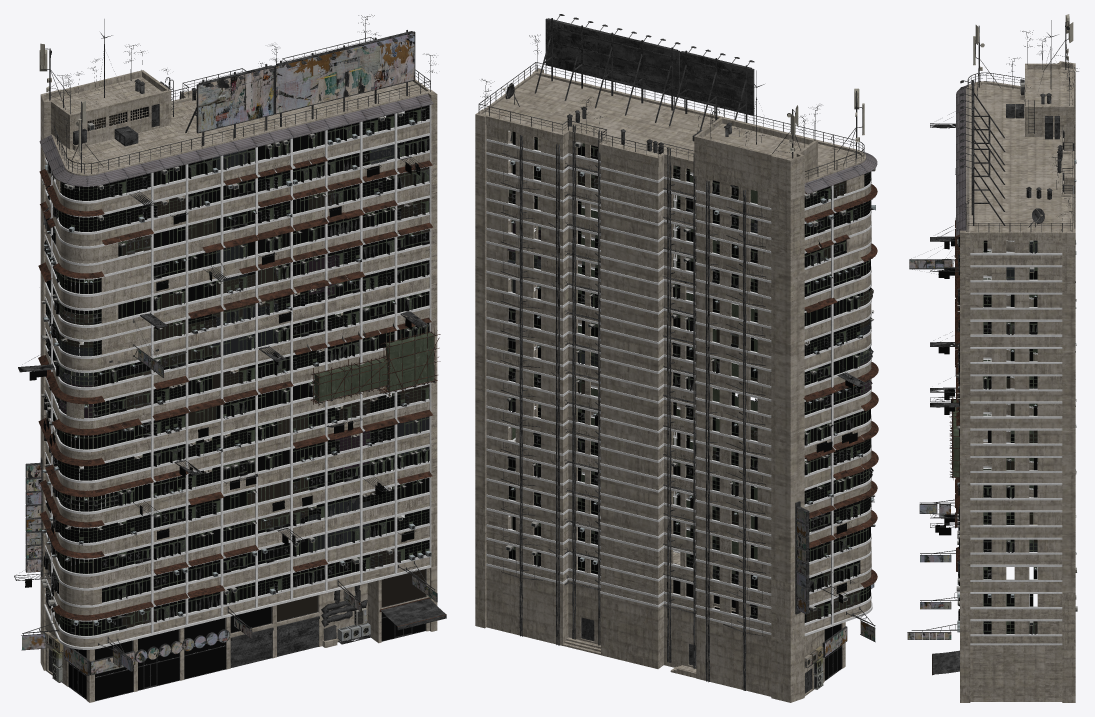
Rendered from tower08.glb.
The picture shows the model from 3 angles, left to right: view 1: azimuth 30°, elevation 25°; view 2: azimuth 150°, elevation 25°; view 3: azimuth 270°, elevation 25°; orthographic projection. The views are drawn at different scales.
Parts seen in each view (by area): view 1: tower08; view 2: tower08; view 3: tower08.
Boxes of the visible parts, box(x1,y1,x2,y2) form: tower08: box(14, 14, 446, 702); tower08: box(475, 14, 878, 702); tower08: box(907, 14, 1078, 702).
Size of the model in its own units: 38.2 by 60.02 by 16.73.
Materials: 13 (10 with a texture image).
